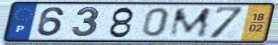0: (141, 7, 172, 39)
3: (71, 6, 102, 39)
6: (36, 6, 66, 38)
7: (209, 5, 246, 40)
8: (109, 6, 135, 39)
M: (167, 6, 214, 39)
